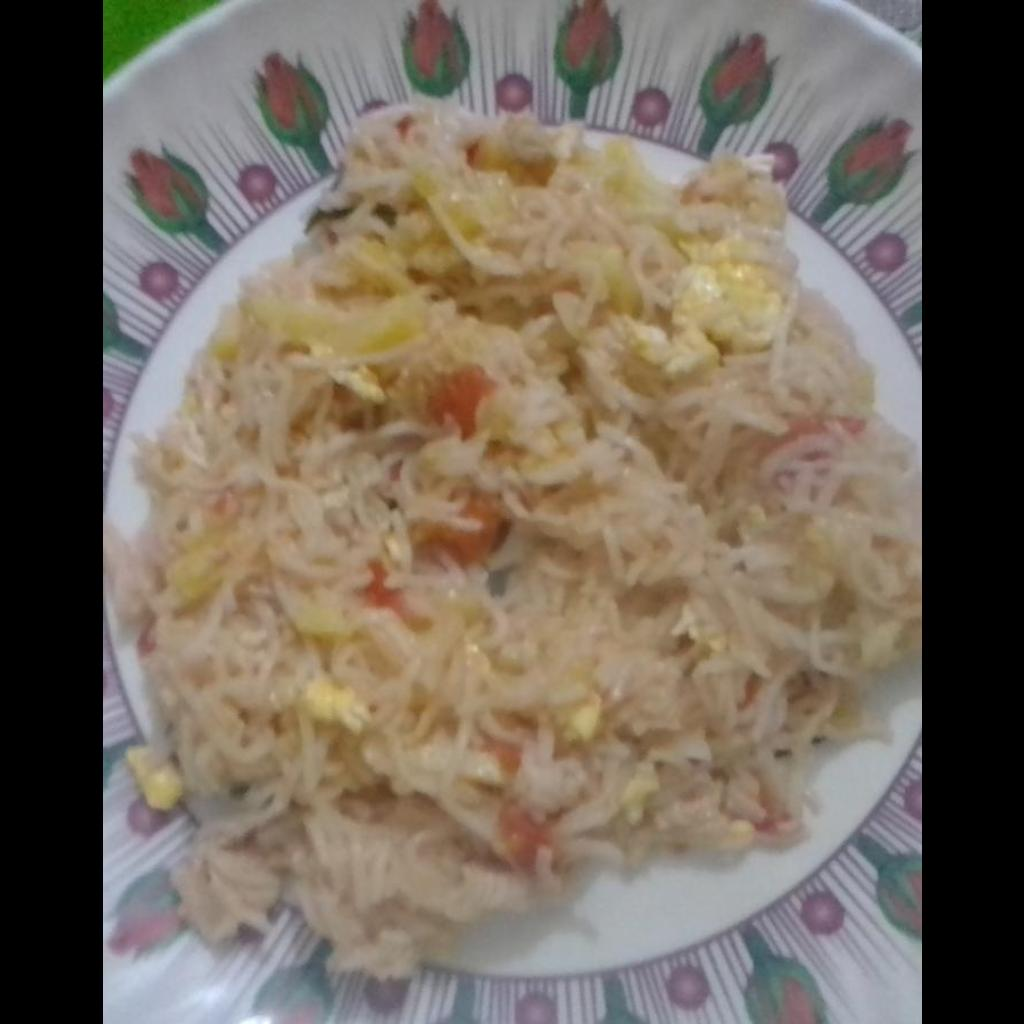rice: (103, 126, 920, 977)
